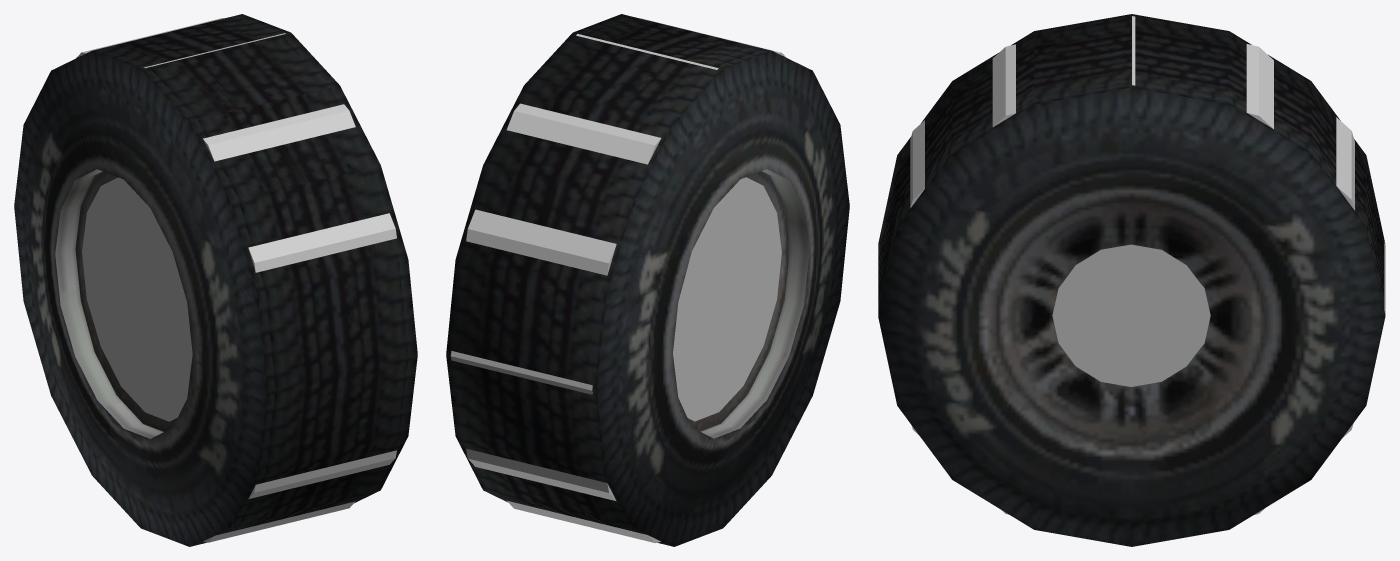
The model's file is tire_9_out.glb.
3 renders of one model, left to right at view 1: azimuth 30°, elevation 25°; view 2: azimuth 150°, elevation 25°; view 3: azimuth 270°, elevation 25°, orthographic.
Visible parts, largest first — view 1: tire_fr, tire_fl, tire_fl_shadow; view 2: tire_fr, tire_fl_shadow, tire_fl; view 3: tire_fr, tire_fl_shadow, tire_fl.
Part boxes in pixels (<box>): tire_fr: <box>14,14,417,546</box>; tire_fl: <box>75,35,408,544</box>; tire_fl_shadow: <box>76,18,396,542</box>; tire_fr: <box>446,14,849,546</box>; tire_fl_shadow: <box>451,18,785,543</box>; tire_fl: <box>456,26,789,431</box>; tire_fr: <box>878,14,1385,546</box>; tire_fl_shadow: <box>910,16,1385,514</box>; tire_fl: <box>878,18,1267,372</box>.
Bounding box in the file's own units: 0.3053 × 0.7197 × 0.7199.
